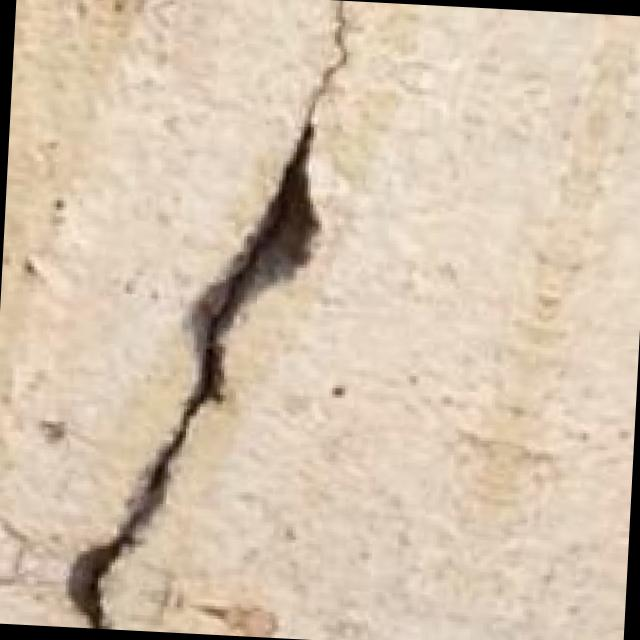crack: (60, 0, 419, 640)
